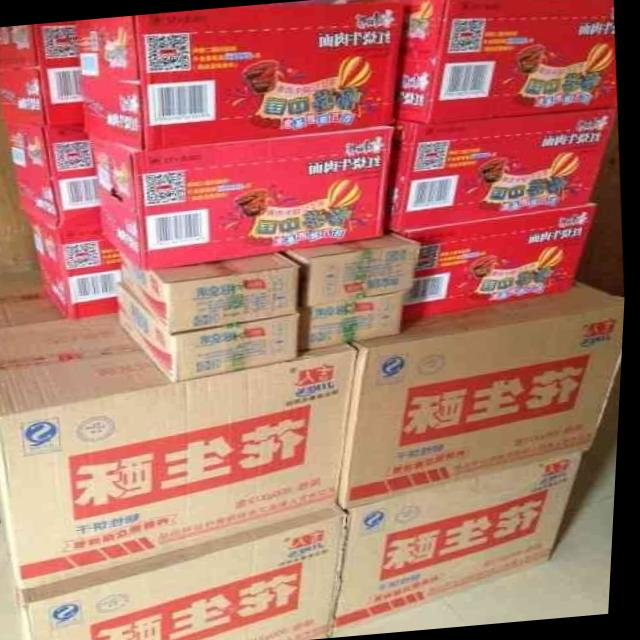box: (0, 311, 361, 589), (342, 280, 628, 510), (75, 0, 406, 151), (339, 450, 587, 632), (18, 505, 352, 640), (92, 124, 394, 270), (387, 108, 617, 231), (397, 0, 618, 123), (403, 202, 600, 321), (120, 287, 302, 381), (122, 251, 302, 333), (284, 232, 422, 307), (6, 122, 103, 228), (29, 214, 123, 317), (0, 20, 85, 126), (301, 292, 407, 350), (0, 269, 71, 328)
